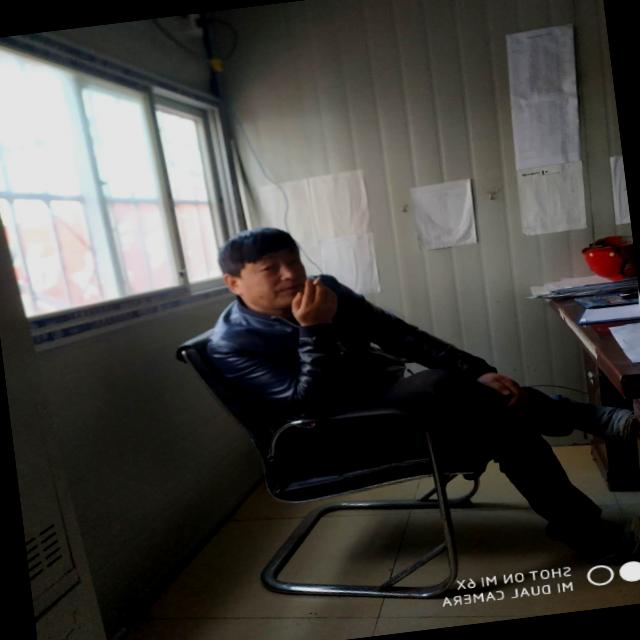cigarette: (300, 272, 328, 296)
